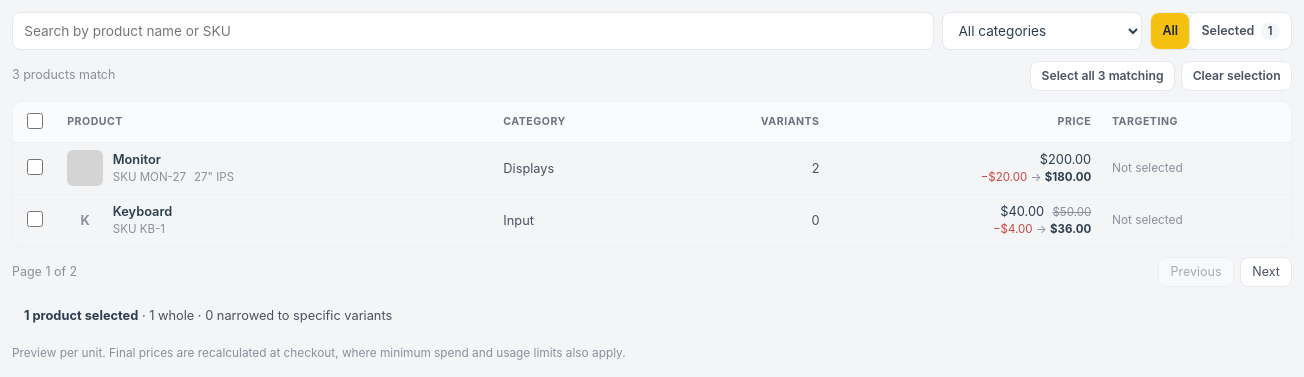
Test case: PromotionProductTargets › shows only the selection in the Selected view, without a request
The width and height of the screenshot is (1304, 377).
Click the button "Selected 1": (1240, 31) x1=1189 y1=13 x2=1291 y2=49
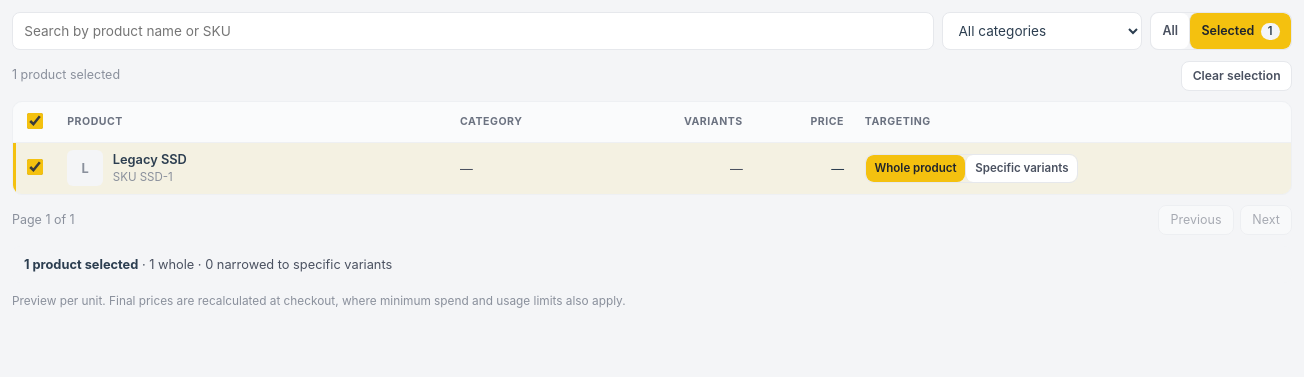
Expected: the row "L Legacy SSD SKU SSD-1 — — — Whole product Specific variants" is shown, x1=13 y1=142 x2=1291 y2=194
